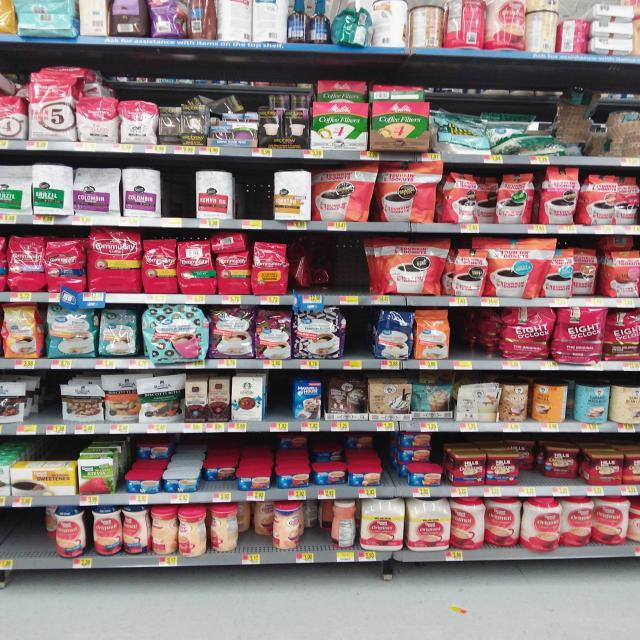100- O.O.S: (1, 507, 42, 570), (239, 173, 272, 230), (162, 170, 194, 228), (335, 238, 362, 305), (345, 308, 369, 370), (270, 372, 292, 432), (452, 308, 472, 371), (42, 370, 61, 436)
